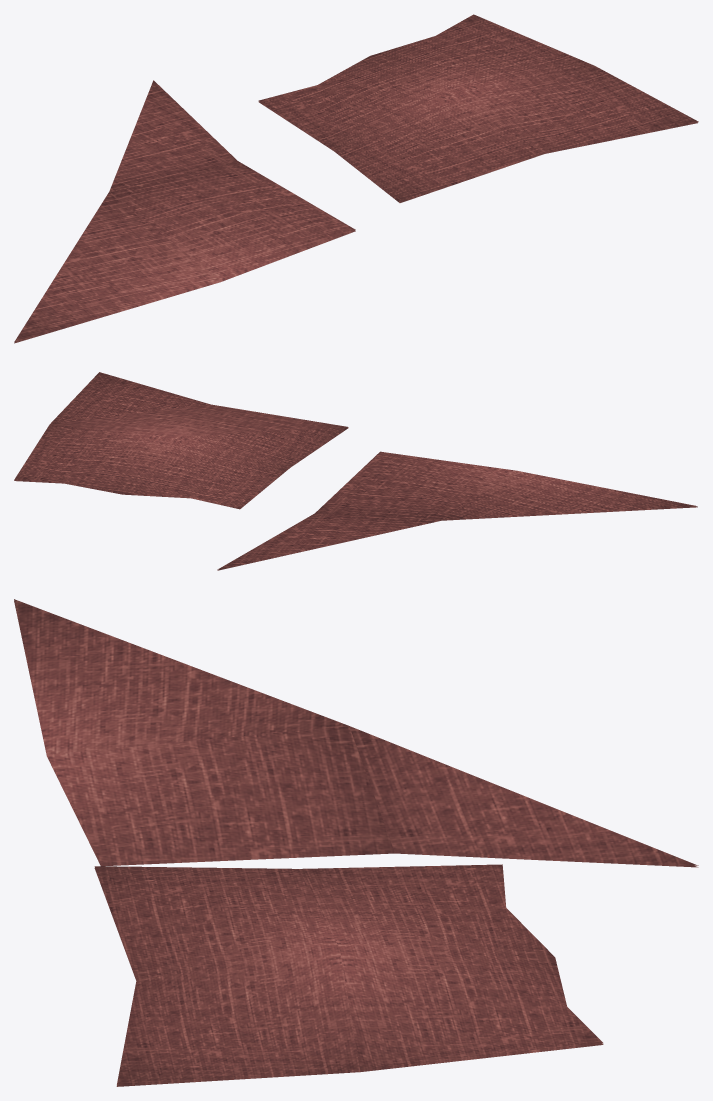
Rendered from Sail_A_Color_C.fbx.
3 renders of one model, top to bottom at view 1: azimuth 30°, elevation 25°; view 2: azimuth 150°, elevation 25°; view 3: azimuth 270°, elevation 25°, orthographic. The views are drawn at different scales.
Parts seen in each view (by area): view 1: Sail_A_Color_C; view 2: Sail_A_Color_C; view 3: Sail_A_Color_C.
Boxes of the visible parts, left/top/right/bottom form: Sail_A_Color_C: left=14, top=14, right=698, bottom=343; Sail_A_Color_C: left=14, top=372, right=697, bottom=570; Sail_A_Color_C: left=14, top=599, right=698, bottom=1086.
Size of the model in its own units: 10.75 by 0.4843 by 6.05.
